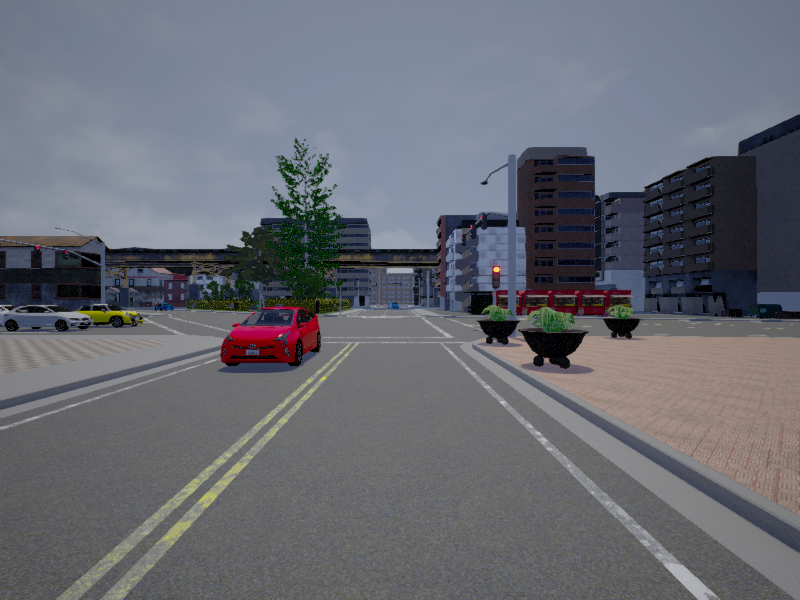Benign: (222, 308, 321, 366), (6, 305, 90, 330), (77, 304, 141, 327), (153, 300, 175, 310), (387, 299, 400, 309)
